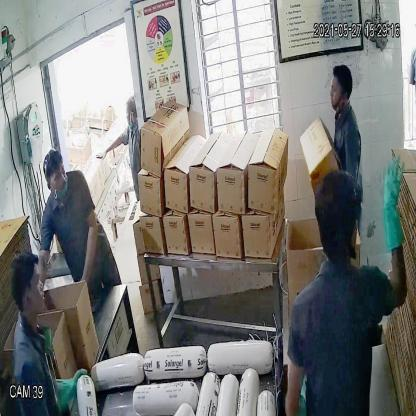no_goggles: (42, 163, 70, 185), (327, 80, 346, 100)
